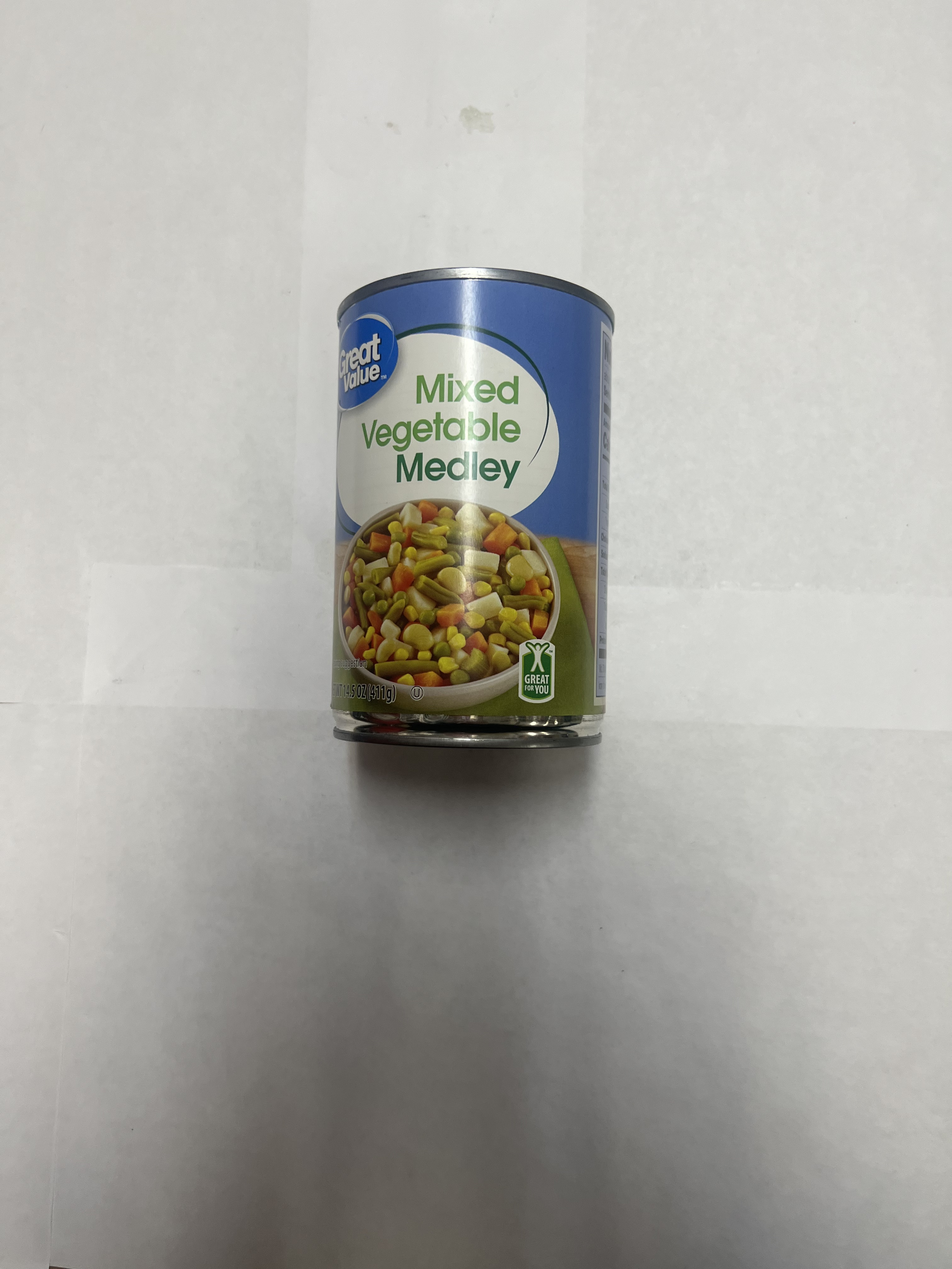packaged: (320, 259, 620, 758)
